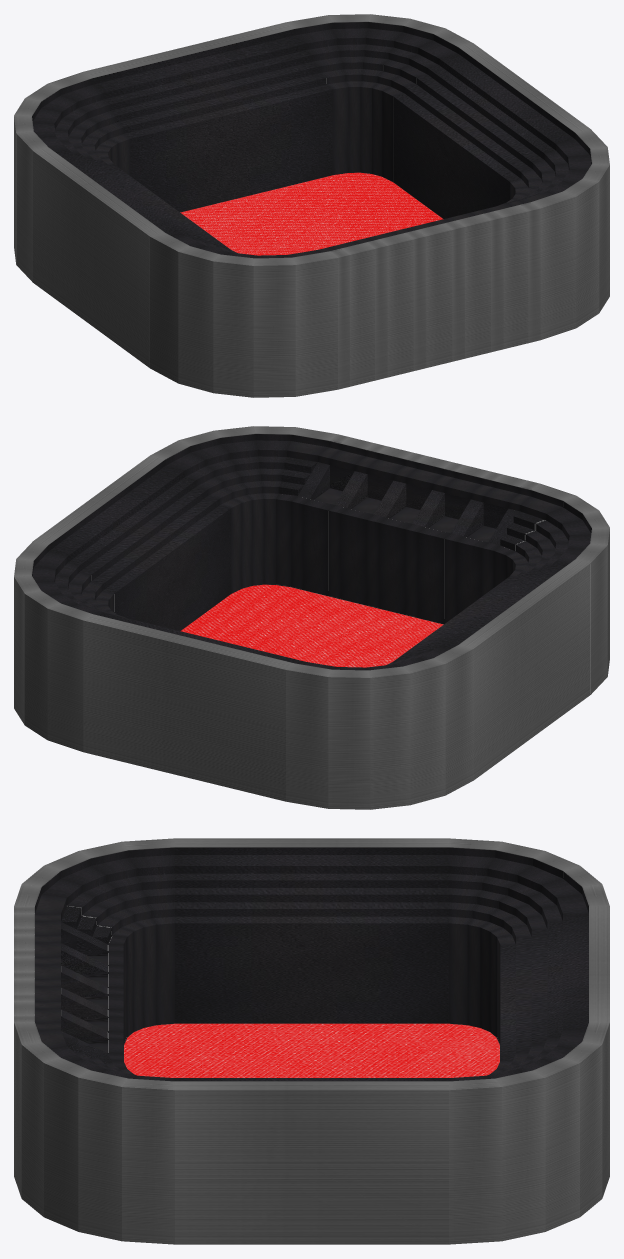
The model's file is 다이스박스.fbx.
3 views of the same model, one above another, from view 1: azimuth 30°, elevation 25°; view 2: azimuth 150°, elevation 25°; view 3: azimuth 270°, elevation 25° (orthographic). The views are drawn at different scales.
Parts seen in each view (by area): view 1: 큐브; view 2: 큐브; view 3: 큐브.
Part boxes in pixels (x1,y1,x2,y2): 큐브: [14, 14, 609, 397]; 큐브: [14, 426, 609, 809]; 큐브: [14, 838, 609, 1244].
Size of the model in its own units: 700 by 200 by 700.
